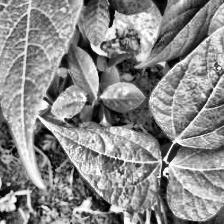ALS: (35, 120, 162, 210), (150, 0, 224, 147), (85, 0, 166, 75), (166, 139, 224, 221)
